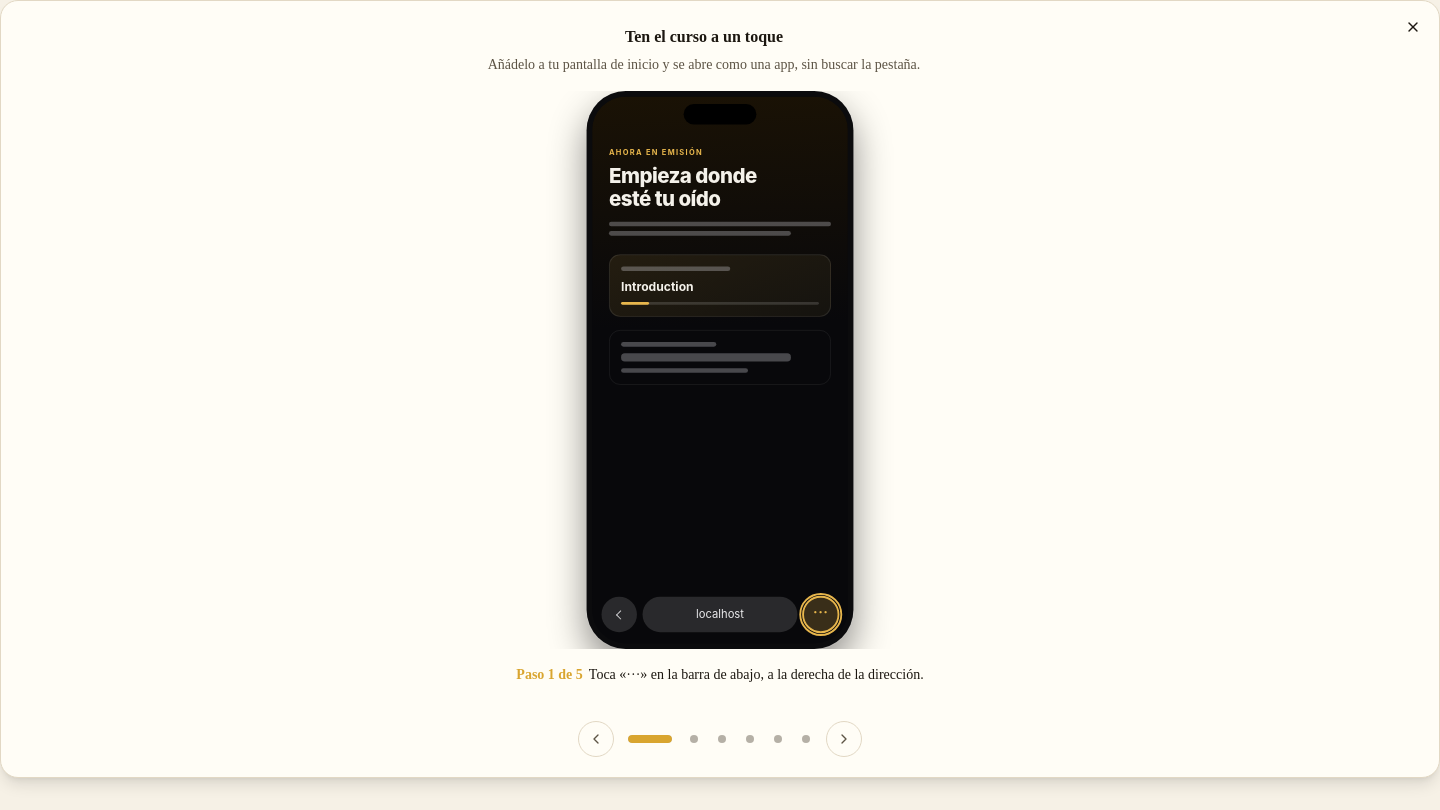
Test case: GuideAutoplay by hand › GIVEN a learner who overshot the frame they wanted › WHEN they drag back from the first step THEN the result is shown
Press the mouse on the element "Ten el curso a un toque" at point(720, 389), box 0,0 -> 1439,778
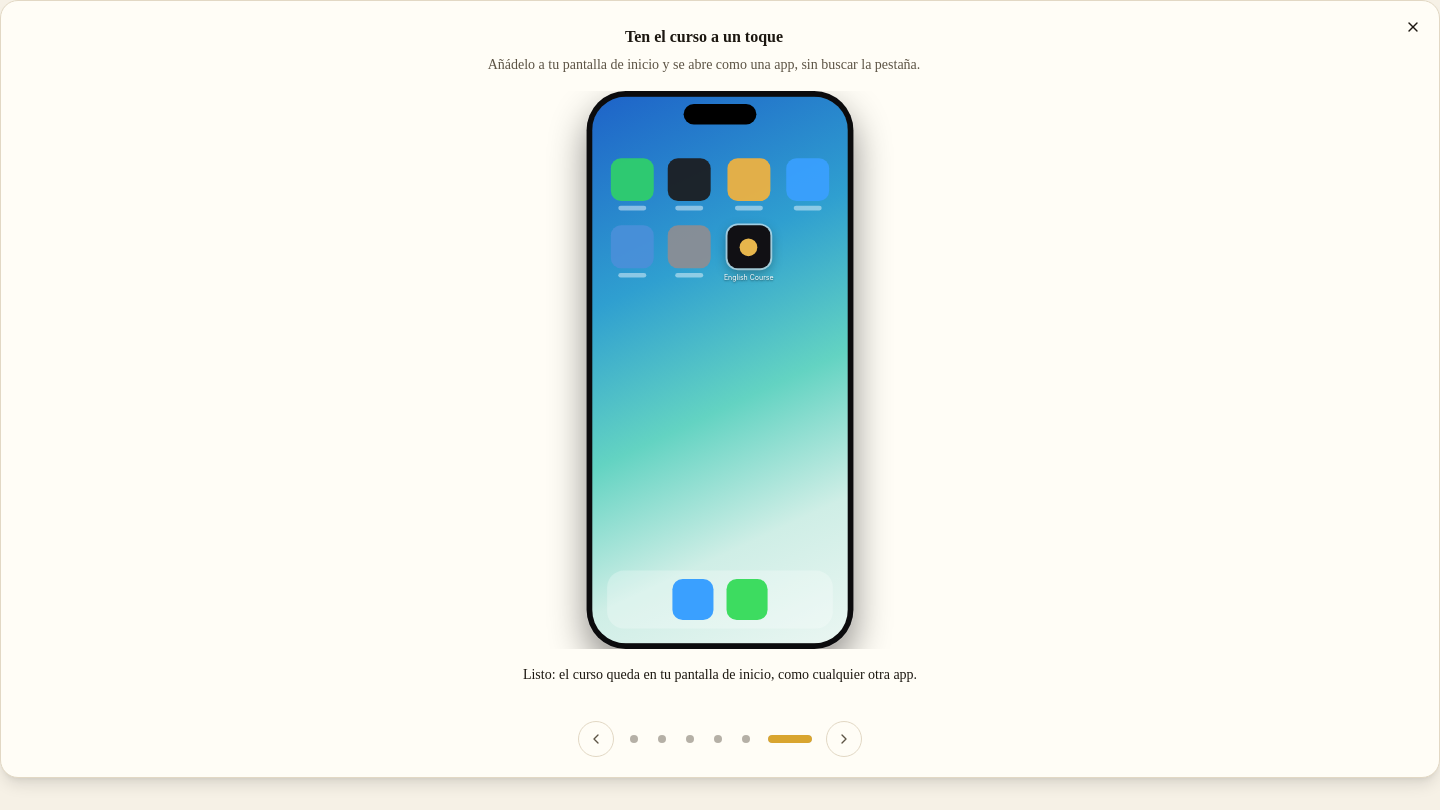
expect the text "Listo: el curso queda en tu pantalla de inicio, como cualquier otra app." is shown: met, box 523,667 -> 917,682
